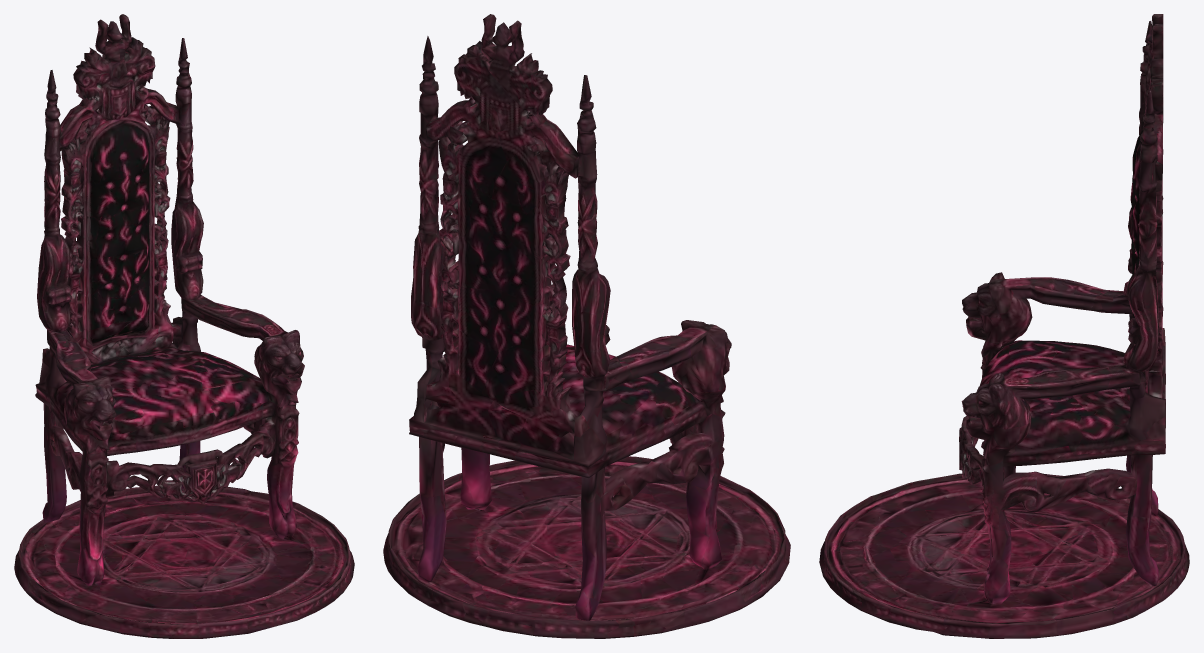
File: crimsonThrone.glb
The picture shows the model from 3 angles, left to right: view 1: azimuth 30°, elevation 25°; view 2: azimuth 150°, elevation 25°; view 3: azimuth 270°, elevation 25°; orthographic projection. The views are drawn at different scales.
Size of the model in its own units: 1.18 by 1.9 by 1.18.
1 material, 1 textured.
